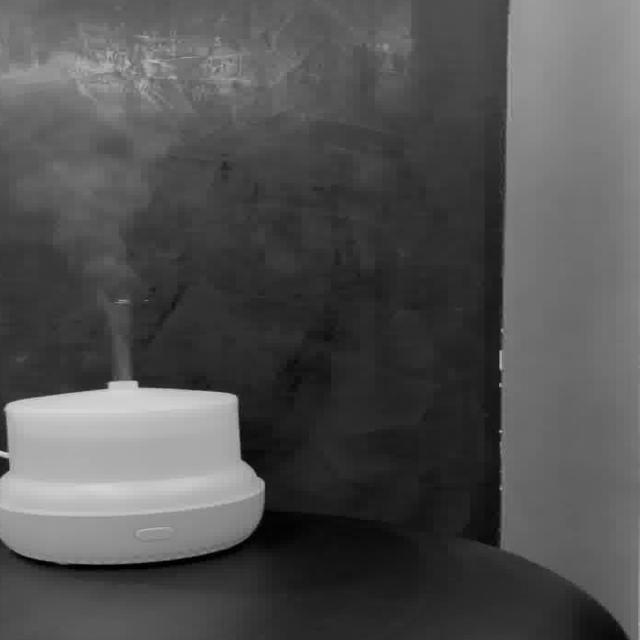fire: (0, 94, 151, 379)
